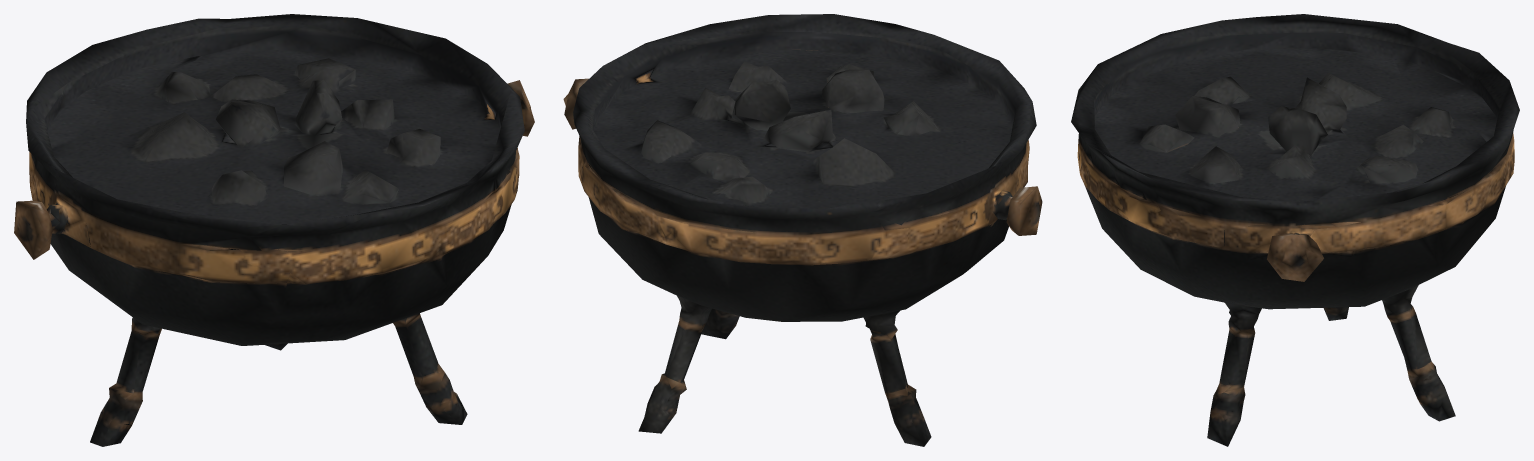
Rendered from brazier.glb.
3 views of the same model, side by side, from view 1: azimuth 30°, elevation 25°; view 2: azimuth 150°, elevation 25°; view 3: azimuth 270°, elevation 25° (orthographic). The views are drawn at different scales.
Parts seen in each view (by area): view 1: Mesh_0.001; view 2: Mesh_0.001; view 3: Mesh_0.001.
Boxes of the visible parts, x1=… form: Mesh_0.001: x1=14, y1=14, x2=534, y2=446; Mesh_0.001: x1=563, y1=14, x2=1042, y2=446; Mesh_0.001: x1=1071, y1=14, x2=1519, y2=446.
Size of the model in its own units: 1.87 by 1.17 by 1.62.
1 material, 1 textured.
